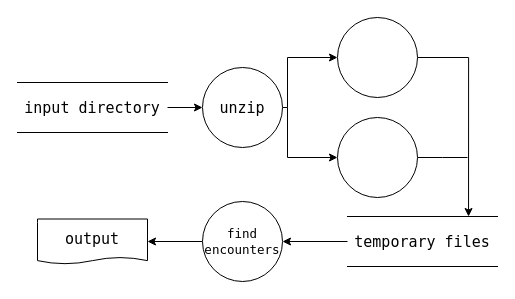
Some shapes in this 515 by 299 pixel diagram are drawn without their labels. Each missing label, with the box of its shape:
pcap association extraction: (336, 16, 418, 98)
syslog association extraction: (336, 116, 418, 198)
